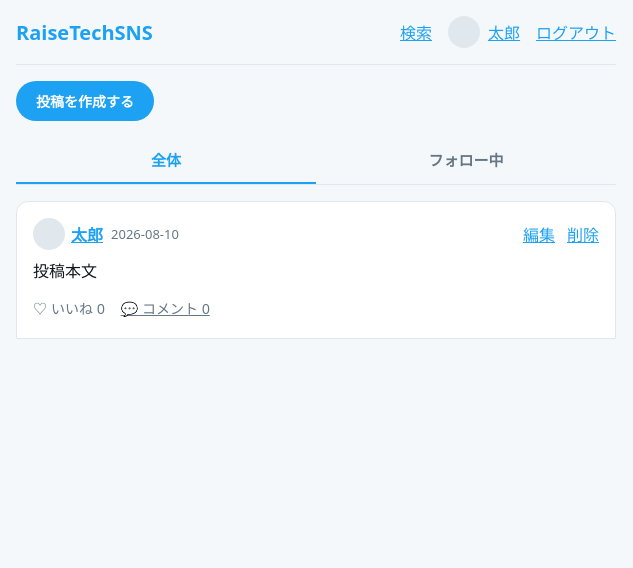
TimelineScreen › コメントリンクをクリックすると投稿詳細ビューに遷移し「戻る」で一覧に戻る
Check: the text "投稿本文" is shown, box left=33, top=260, right=97, bottom=282
Click the button "💬 コメント 0". click: (165, 308)
box: left=121, top=298, right=210, bottom=318
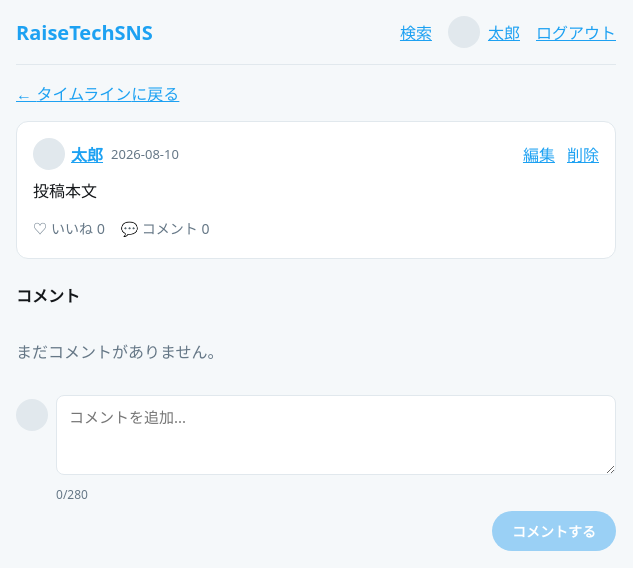
Check: the text "まだコメントがありません。" is shown, box left=16, top=341, right=224, bottom=363
Check: the button "← タイムラインに戻る" is shown
Click the button "← タイムラインに戻る". click: (98, 93)
box: left=16, top=81, right=179, bottom=105
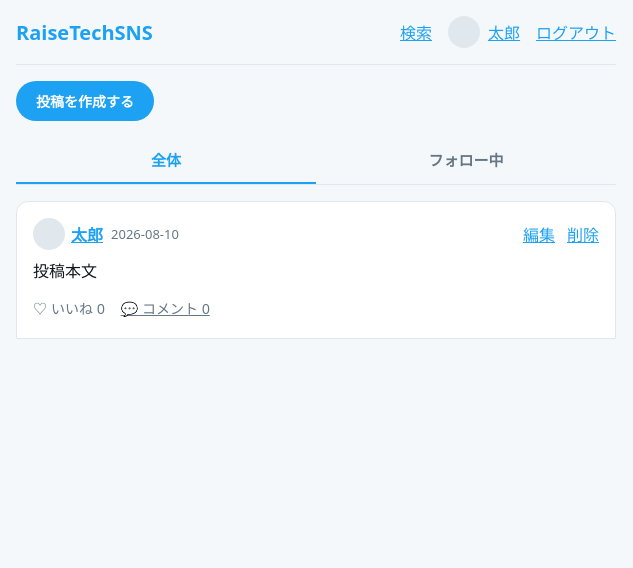
Check: the text "まだコメントがありません。" is gone
Check: the button "💬 コメント 0" is shown, box left=121, top=298, right=210, bottom=318
